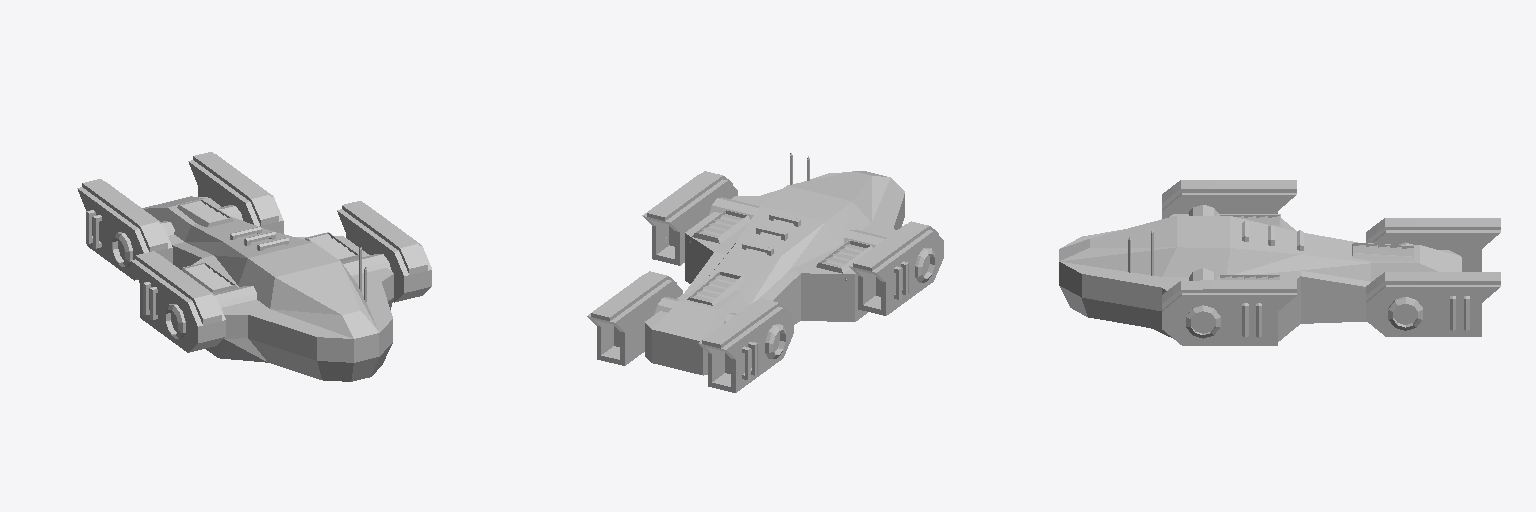
The model's file is SwallowA.obj.
The picture shows the model from 3 angles: view 1: azimuth 30°, elevation 25°; view 2: azimuth 150°, elevation 25°; view 3: azimuth 270°, elevation 25°; orthographic projection.
Size of the model in its own units: 18.66 by 6.78 by 28.98.